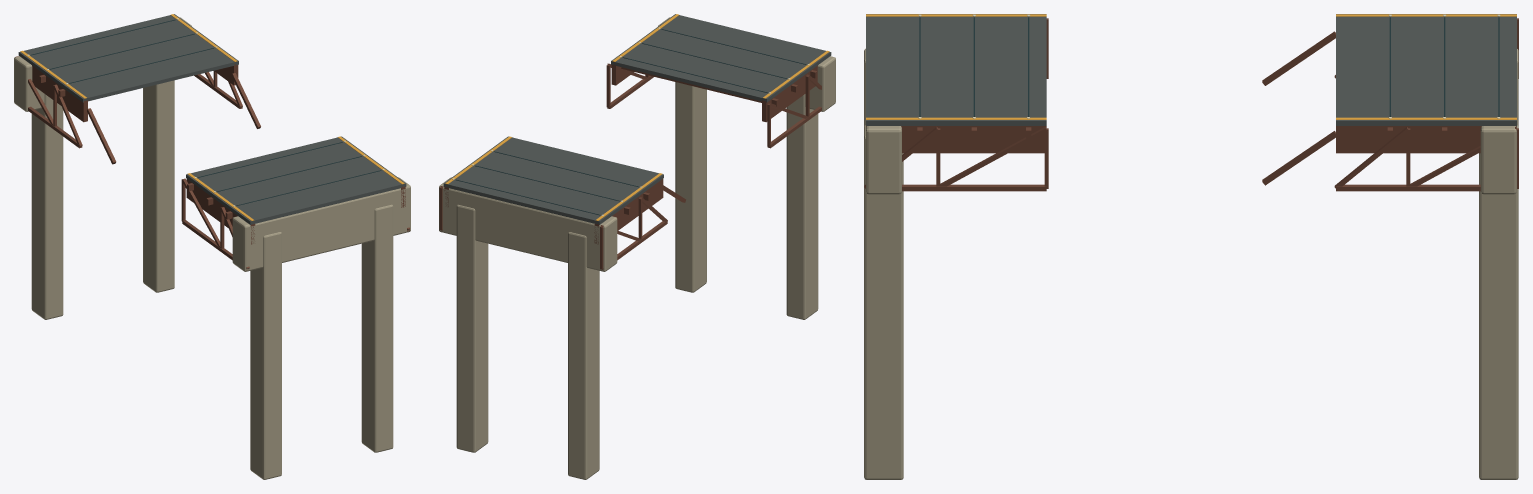
The model's file is bridge_broken.glb.
3 views of the same model, side by side, from view 1: azimuth 30°, elevation 25°; view 2: azimuth 150°, elevation 25°; view 3: azimuth 270°, elevation 25° (orthographic). The views are drawn at different scales.
Visible parts, largest first — view 1: Bridge wearing course.001, Bridge wearing course.002, Bridge pier.007, Bridge pier.006, Concrete bridge abutment.003, Bridge pier.004, Bridge pier.005, Concrete bridge abutment.002, Deep edge girder.002, Deep edge girder.004; view 2: Bridge wearing course.001, Bridge wearing course.002, Bridge pier.005, Bridge pier.004, Concrete bridge abutment.002, Bridge pier.006, Bridge pier.007, Concrete bridge abutment.003, Deep edge girder.002, Deep edge girder.004; view 3: Bridge wearing course.001, Bridge wearing course.002, Bridge pier.007, Bridge pier.005, Deep edge girder.003, Deep edge girder.005, Concrete bridge abutment.002, Concrete bridge abutment.003, Underdeck truss lower chord.018, Underdeck truss diagonal.018.
Boxes of the visible parts, bbox=[...] form: Bridge wearing course.001: bbox=[18, 14, 238, 102]; Bridge wearing course.002: bbox=[186, 136, 406, 224]; Bridge pier.007: bbox=[361, 204, 393, 452]; Bridge pier.006: bbox=[250, 232, 281, 479]; Concrete bridge abutment.003: bbox=[232, 177, 410, 271]; Bridge pier.004: bbox=[31, 94, 63, 319]; Bridge pier.005: bbox=[143, 80, 174, 292]; Concrete bridge abutment.002: bbox=[14, 17, 191, 111]; Deep edge girder.002: bbox=[32, 65, 87, 122]; Deep edge girder.004: bbox=[186, 179, 255, 244]; Bridge wearing course.001: bbox=[443, 136, 663, 224]; Bridge wearing course.002: bbox=[611, 14, 831, 102]; Bridge pier.005: bbox=[456, 204, 488, 452]; Bridge pier.004: bbox=[568, 232, 599, 479]; Concrete bridge abutment.002: bbox=[439, 177, 617, 271]; Bridge pier.006: bbox=[786, 94, 818, 319]; Bridge pier.007: bbox=[675, 82, 706, 292]; Concrete bridge abutment.003: bbox=[658, 17, 835, 111]; Deep edge girder.002: bbox=[594, 179, 663, 244]; Deep edge girder.004: bbox=[762, 65, 817, 122]; Bridge wearing course.001: bbox=[1336, 14, 1516, 125]; Bridge wearing course.002: bbox=[866, 14, 1046, 125]; Bridge pier.007: bbox=[864, 125, 903, 479]; Bridge pier.005: bbox=[1479, 125, 1518, 479]; Deep edge girder.003: bbox=[1336, 126, 1516, 153]; Deep edge girder.005: bbox=[866, 126, 1046, 153]; Concrete bridge abutment.002: bbox=[1480, 126, 1516, 194]; Concrete bridge abutment.003: bbox=[866, 126, 901, 194]; Underdeck truss lower chord.018: bbox=[938, 184, 1046, 191]; Underdeck truss diagonal.018: bbox=[938, 126, 1047, 186].
Bounding box in the file's own units: 15 × 22.57 × 36.21.
